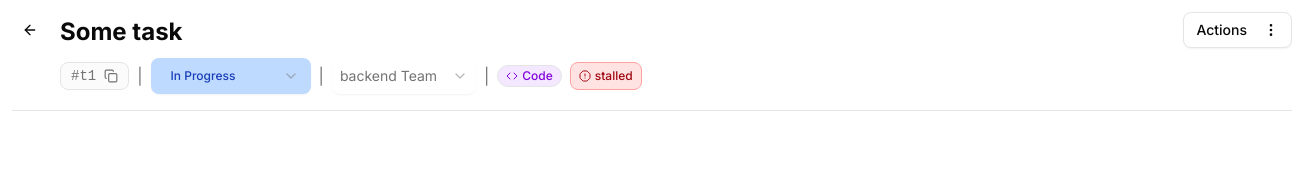
Test case: TaskHeader stalled indicator › shows the stalled chip with the task's own stalled_reason (populated)
Hover over the text "stalled".
mouse_move(606, 76)  # box [570, 62, 642, 90]
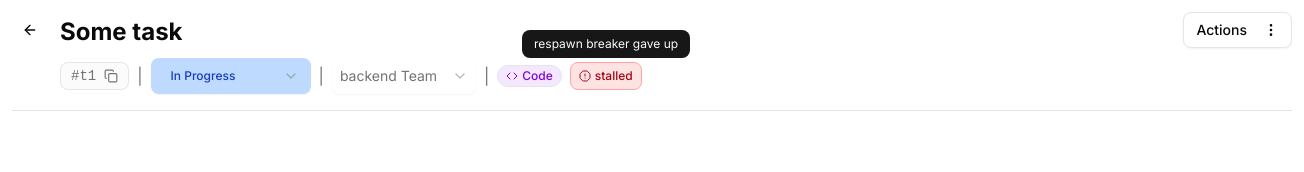
Now the tooltip reads "respawn breaker gave up", box [534, 36, 678, 51]
